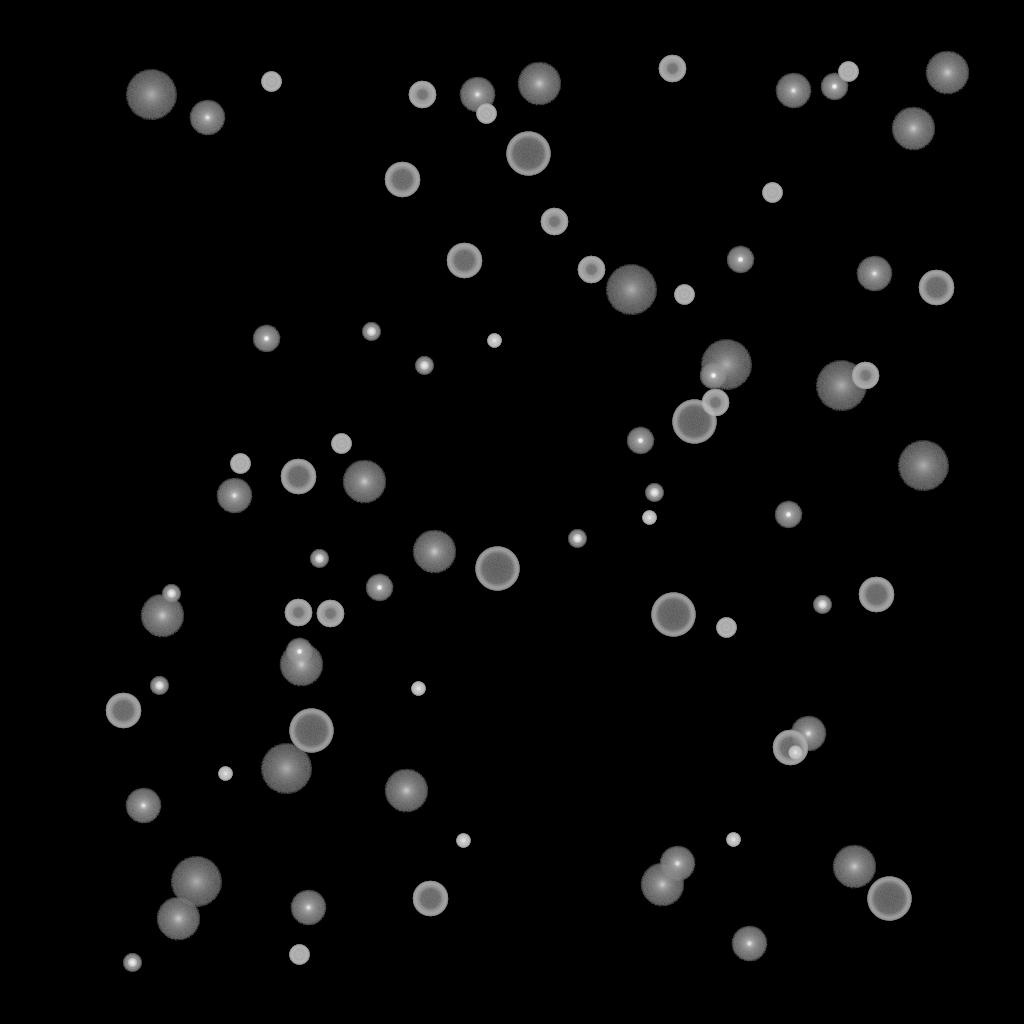depth:-10: (820, 73, 848, 101), (699, 362, 727, 390), (285, 638, 313, 666), (252, 325, 280, 353), (726, 246, 754, 274), (774, 501, 802, 529), (626, 427, 654, 455), (365, 574, 393, 602)
depth:-20: (568, 530, 586, 548), (362, 323, 380, 341), (162, 585, 180, 603), (150, 677, 168, 695), (813, 596, 831, 614), (415, 357, 433, 375), (310, 550, 328, 568), (123, 954, 141, 972), (645, 484, 663, 502)
depth:-30: (726, 833, 740, 847), (218, 767, 232, 781), (788, 746, 802, 760), (411, 682, 425, 696), (456, 834, 470, 848), (642, 511, 656, 525), (487, 334, 501, 348)
depth:-40: (716, 618, 736, 638), (230, 454, 250, 474), (476, 104, 496, 124), (762, 183, 782, 203), (261, 72, 281, 92), (331, 434, 351, 454), (289, 945, 309, 965), (838, 62, 858, 82), (674, 285, 694, 305)
depth:-50: (658, 55, 686, 83), (577, 256, 605, 284), (540, 208, 568, 236), (316, 600, 344, 628), (284, 599, 312, 627), (408, 81, 436, 109), (851, 362, 879, 390), (701, 389, 729, 417)
depth:-60: (105, 693, 141, 729), (446, 243, 482, 279), (918, 270, 954, 306), (280, 459, 316, 495), (412, 881, 448, 917), (858, 577, 894, 613), (384, 162, 420, 198), (772, 730, 808, 766)
depth:-70: (651, 593, 695, 637), (867, 877, 911, 921), (672, 400, 716, 444), (506, 132, 550, 176), (475, 547, 519, 591), (289, 709, 333, 753)
depth:0: (659, 846, 695, 882), (189, 100, 225, 136), (216, 478, 252, 514), (775, 73, 811, 109), (125, 788, 161, 824), (459, 77, 495, 113), (790, 716, 826, 752), (731, 926, 767, 962), (856, 256, 892, 292), (290, 890, 326, 926)
depth:10: (640, 863, 684, 907), (891, 107, 935, 151), (156, 897, 200, 941), (279, 643, 323, 687), (517, 62, 561, 106), (140, 594, 184, 638), (925, 51, 969, 95), (342, 460, 386, 504), (832, 845, 876, 889), (384, 769, 428, 813), (412, 530, 456, 574)
depth:20: (700, 340, 752, 390), (170, 857, 222, 907), (605, 265, 657, 315), (260, 744, 312, 794), (897, 441, 949, 491), (815, 361, 867, 411), (125, 70, 177, 120)
